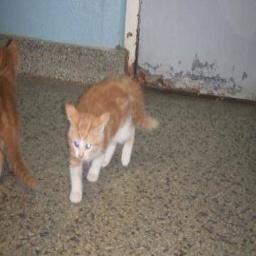cat: (61, 70, 153, 202)
